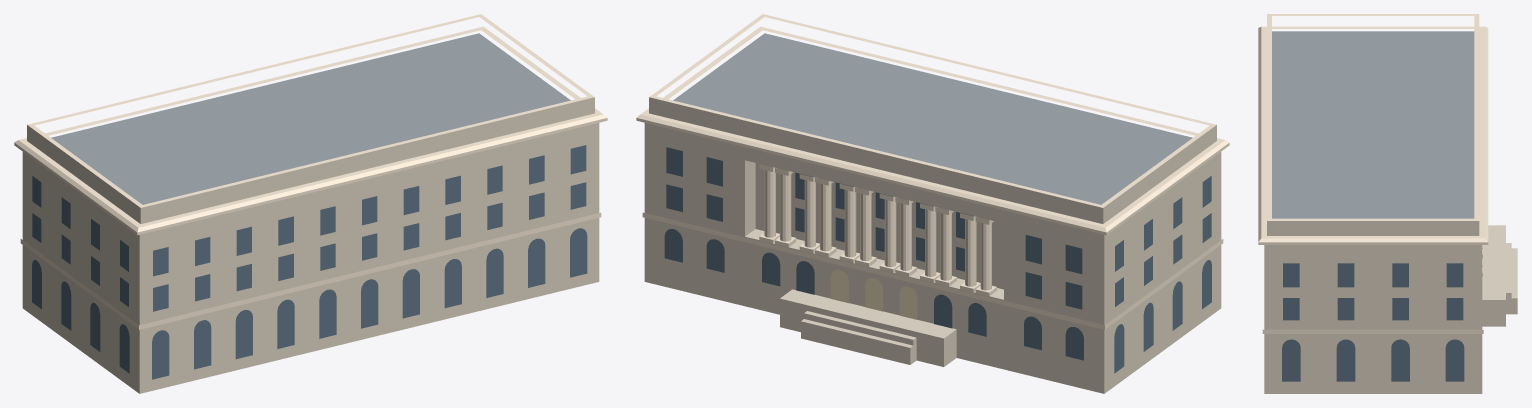
Rendered from clt-city-hall.glb.
The picture shows the model from 3 angles, left to right: view 1: azimuth 30°, elevation 25°; view 2: azimuth 150°, elevation 25°; view 3: azimuth 270°, elevation 25°; orthographic projection. The views are drawn at different scales.
Visible parts, largest first — view 1: Charlotte City Hall; view 2: Charlotte City Hall; view 3: Charlotte City Hall.
Boxes of the visible parts, <box> form: Charlotte City Hall: <box>14,14,607,393</box>; Charlotte City Hall: <box>636,14,1229,393</box>; Charlotte City Hall: <box>1258,14,1517,393</box>.
Bounding box in the file's own units: 51.6 × 19.3 × 26.4.
